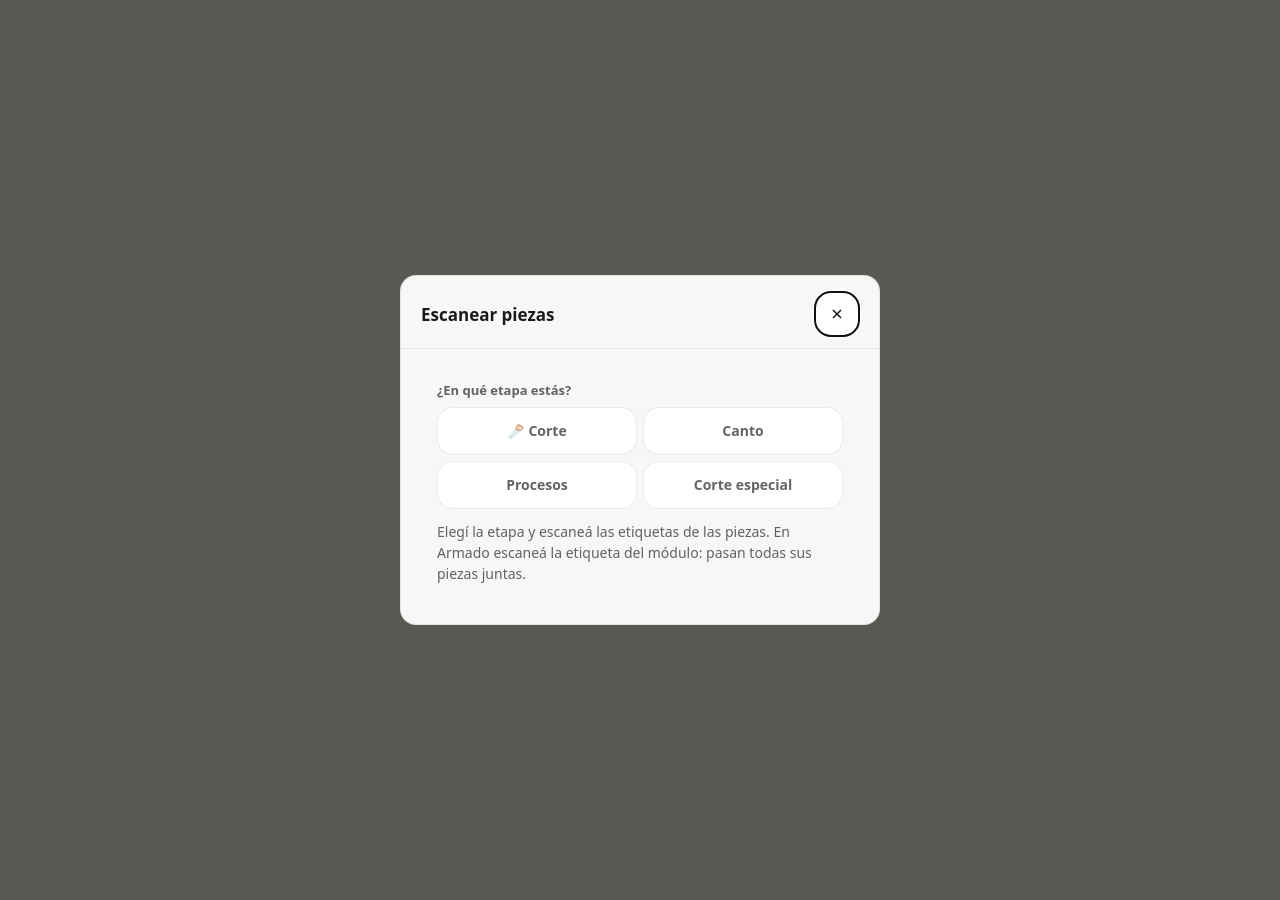
Scenario: operario — sin etapa elegida pide elegirla; avisos en amarillo y errores en rojo; recuerda la etapa
Expected: the text "Elegí la etapa y escaneá las etiquetas de las piezas." is shown, [437,522,812,583]
Click the button "Procesos" at (537, 485), box [437,461,637,509]
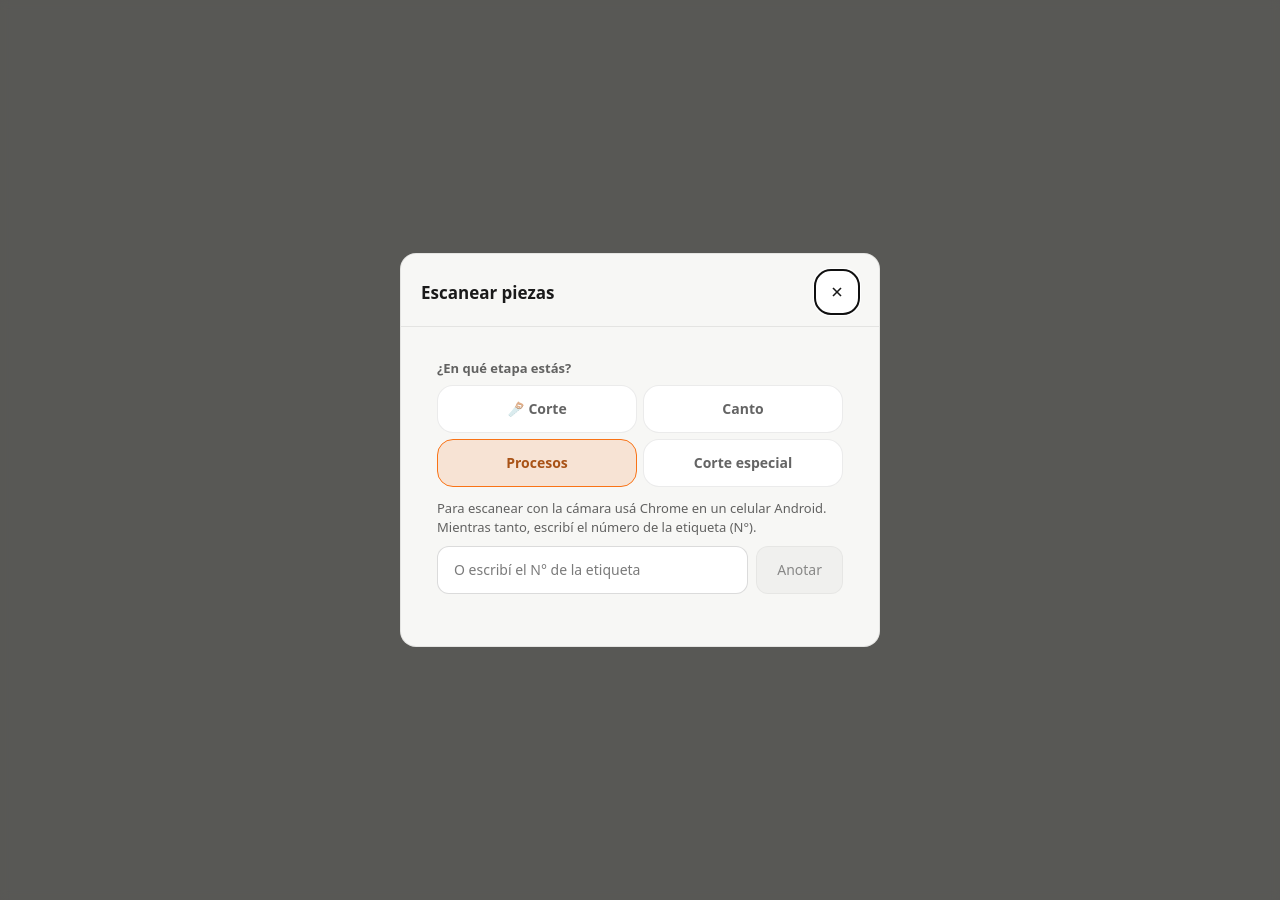
Type "7" into the field named "Número de la pieza" at (593, 570), box [437,546,748,594]
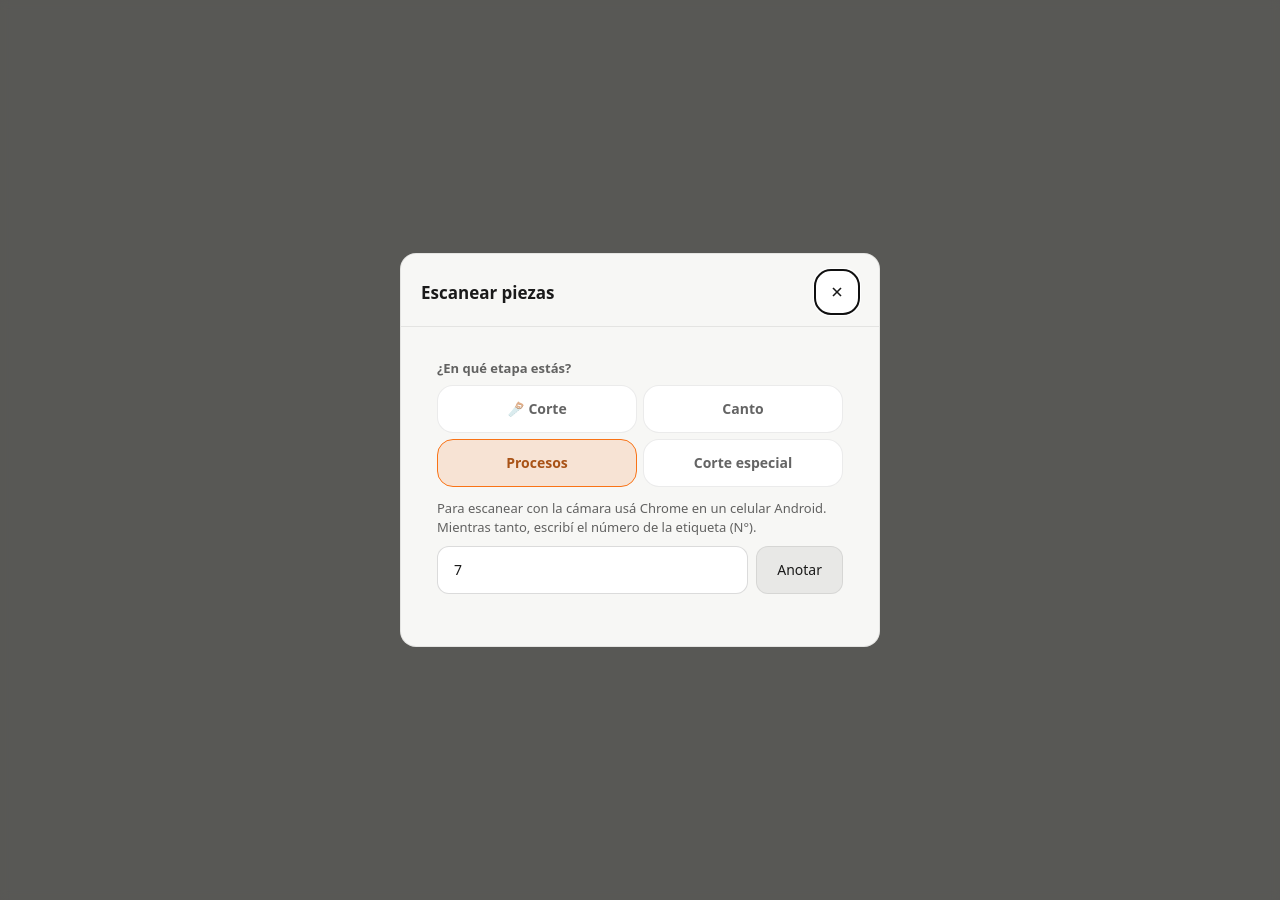
Click the button "Anotar" at (800, 570), box [756,546,843,594]
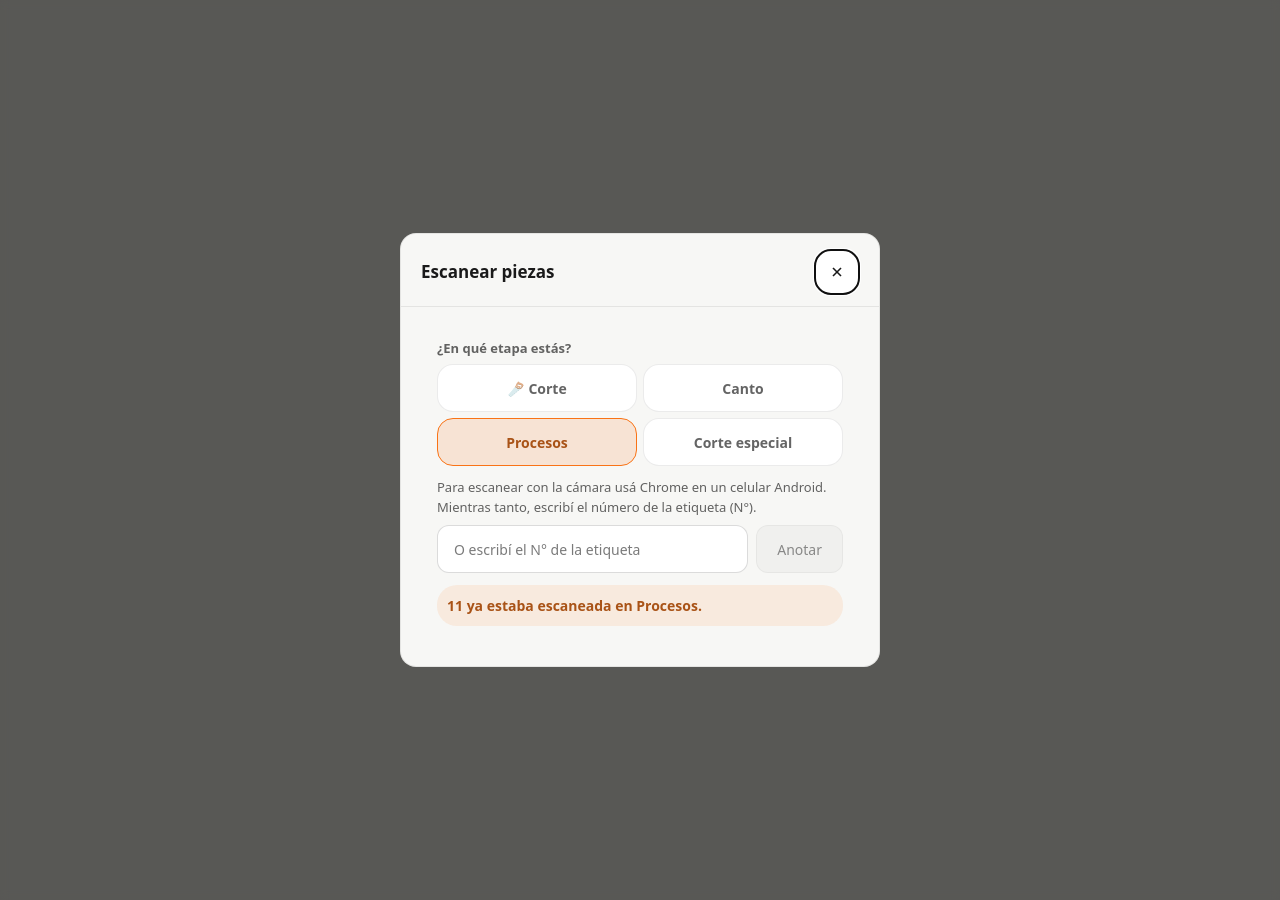
Result: the text "11 ya estaba escaneada en Procesos." is shown at [447,596,702,615]
Type "8" into the field named "Número de la pieza" at (593, 549), box [437,525,748,573]
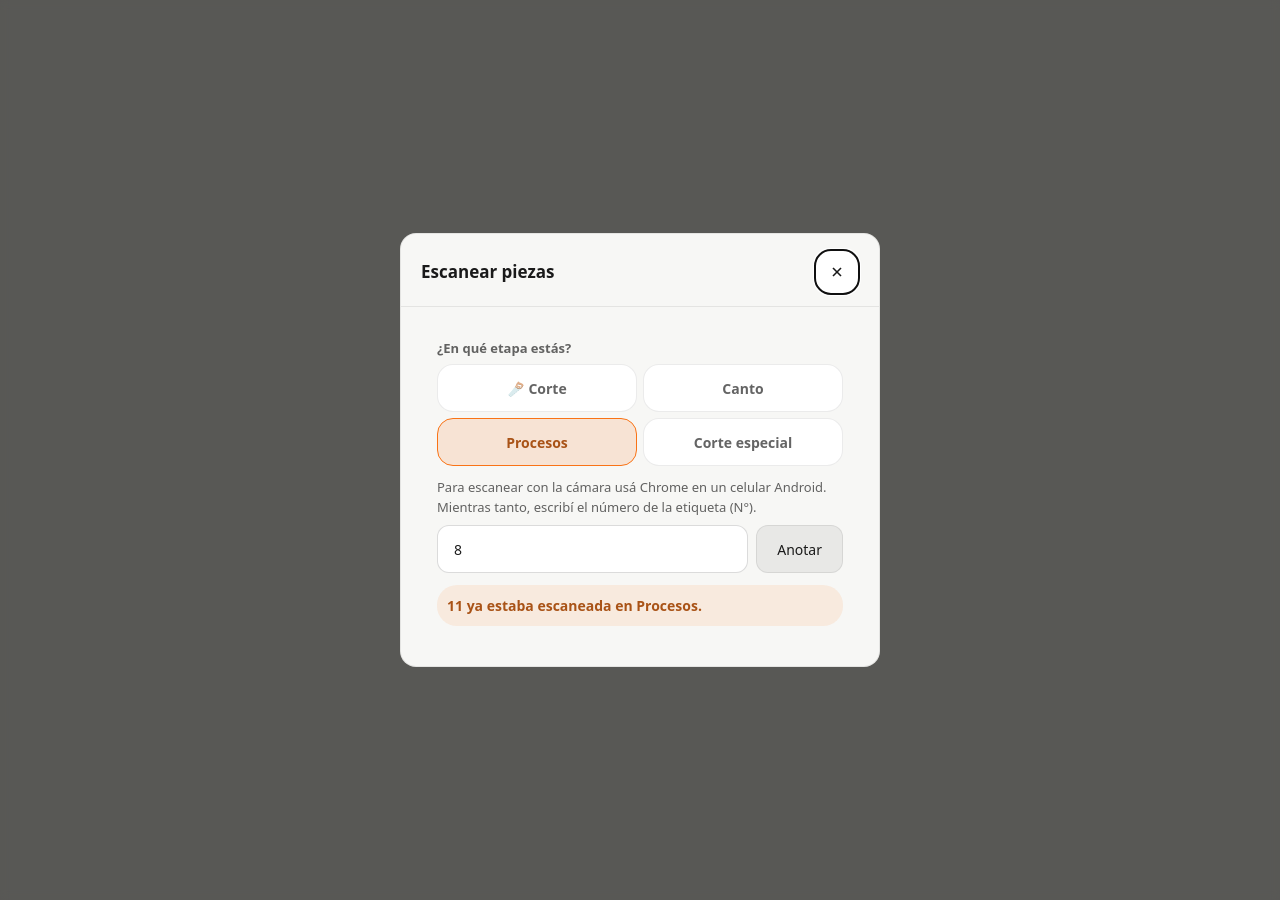
Click the button "Anotar" at (800, 549), box [756,525,843,573]
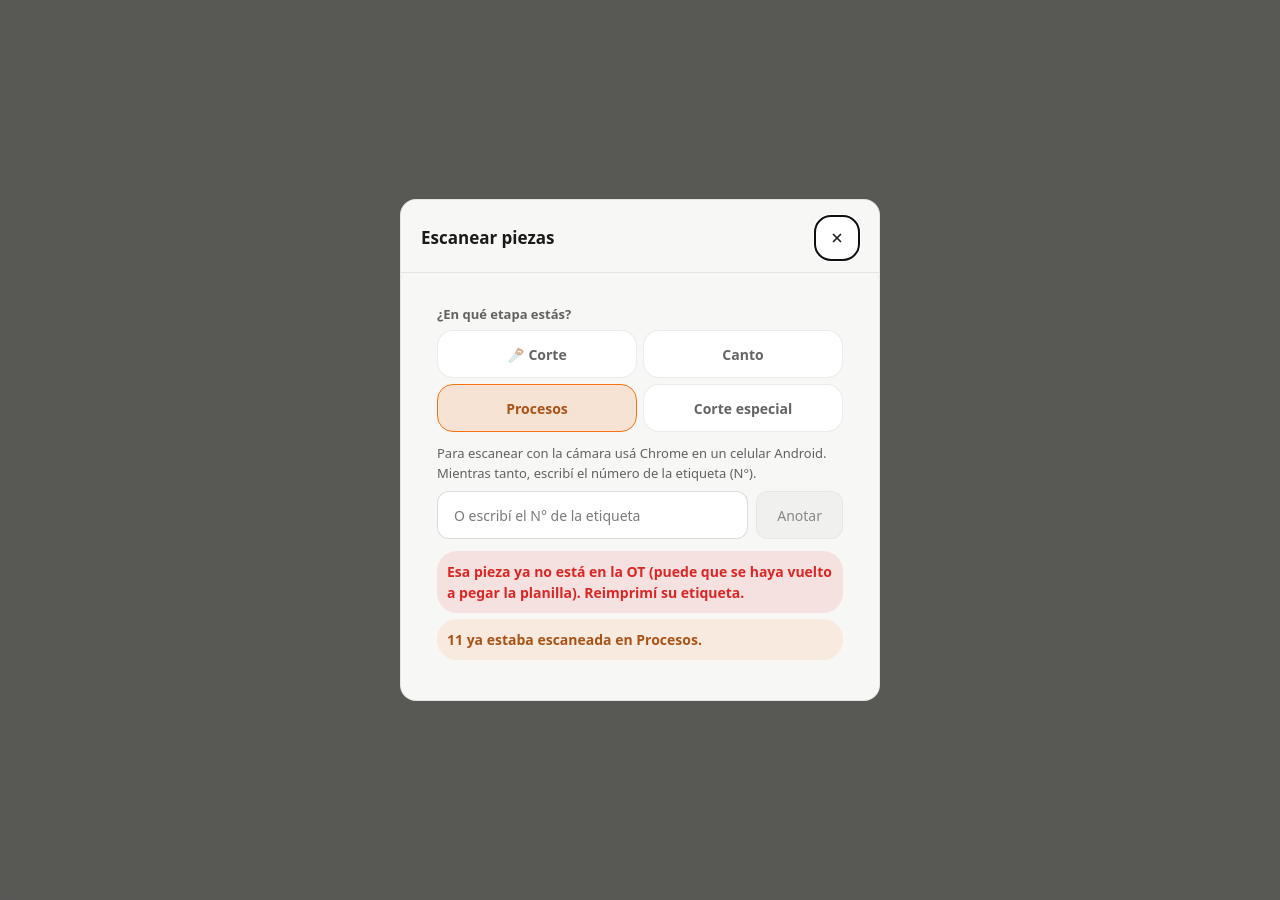
Result: the text "Reimprimí su etiqueta" is shown at [447,562,832,602]
